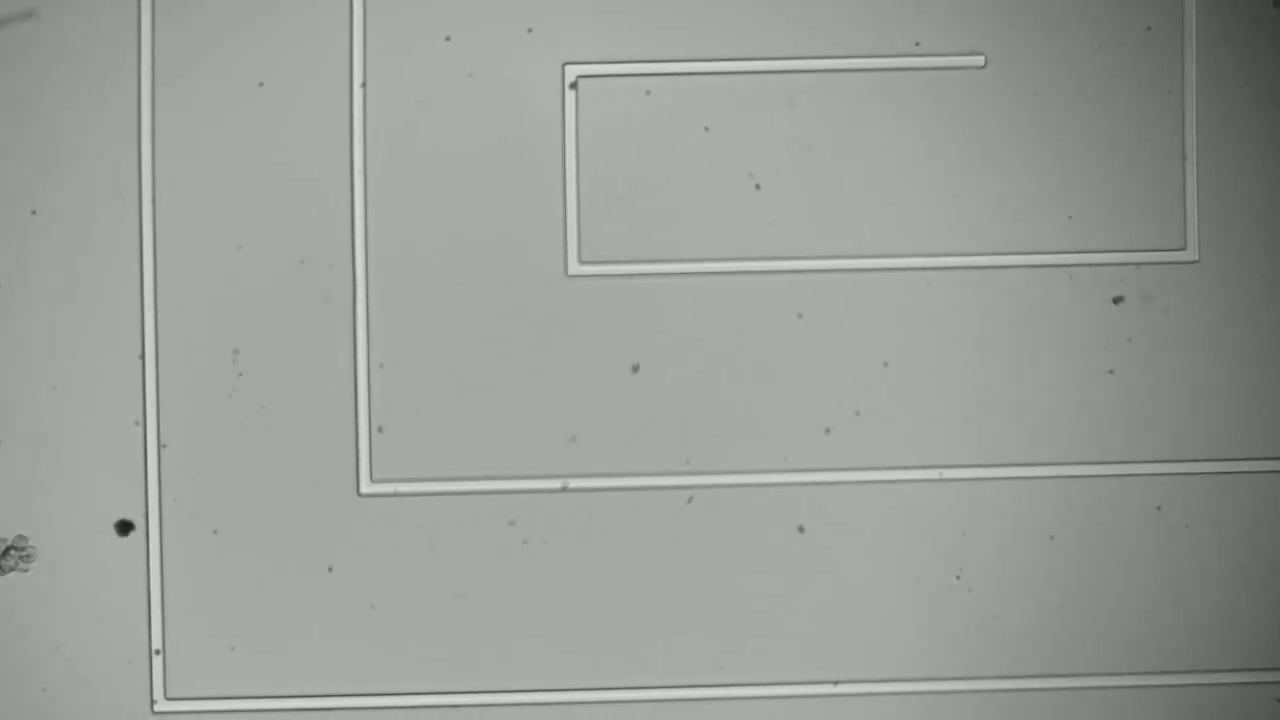stains_enbedded: (142, 636, 175, 665), (560, 75, 584, 95)
